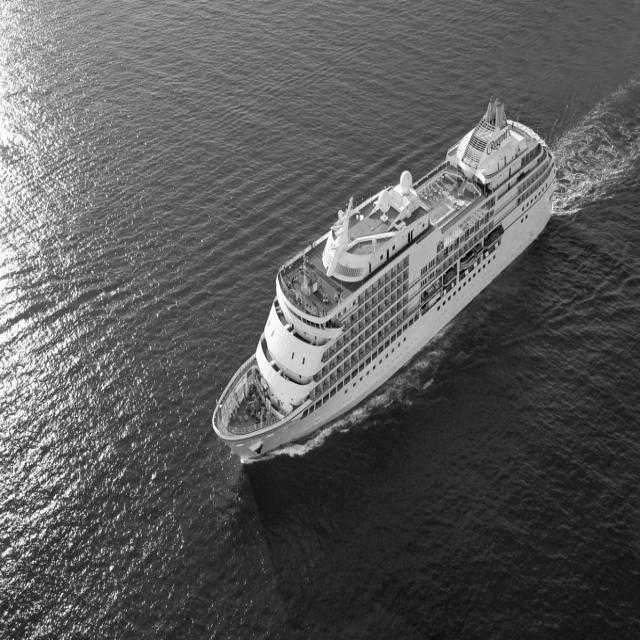Cruise Ship: (212, 85, 570, 467)
